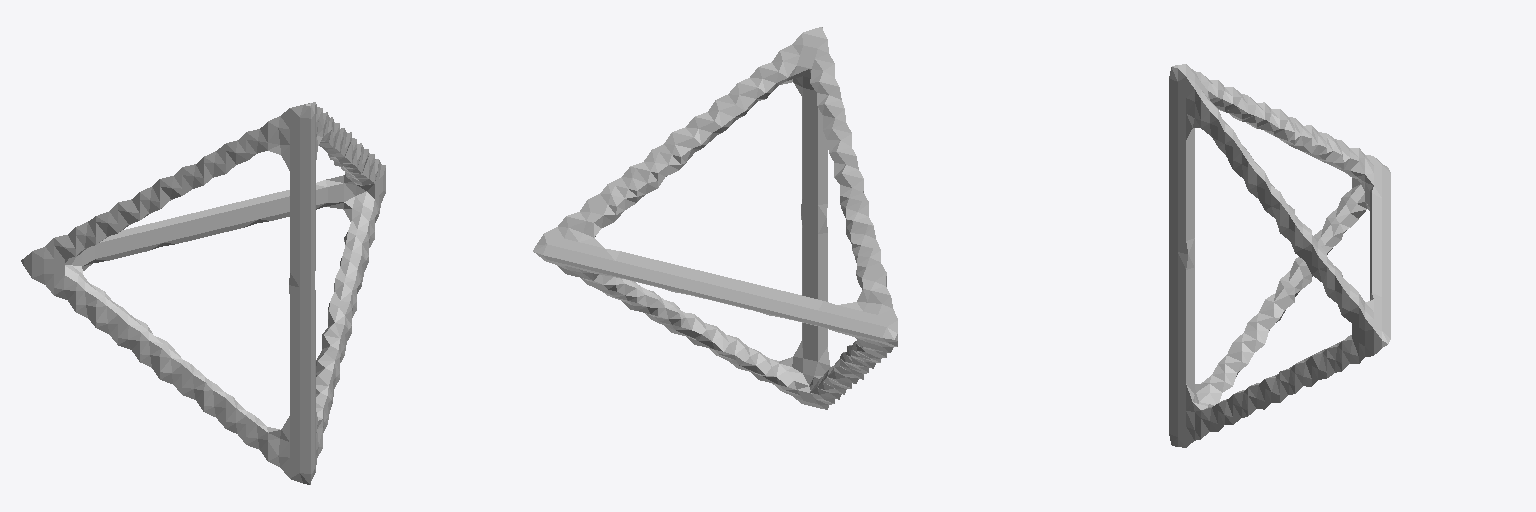
File: Thin2.obj
3 views of the same model, side by side, from view 1: azimuth 30°, elevation 25°; view 2: azimuth 150°, elevation 25°; view 3: azimuth 270°, elevation 25° (orthographic).
Size of the model in its own units: 1.96 by 1.96 by 1.04.